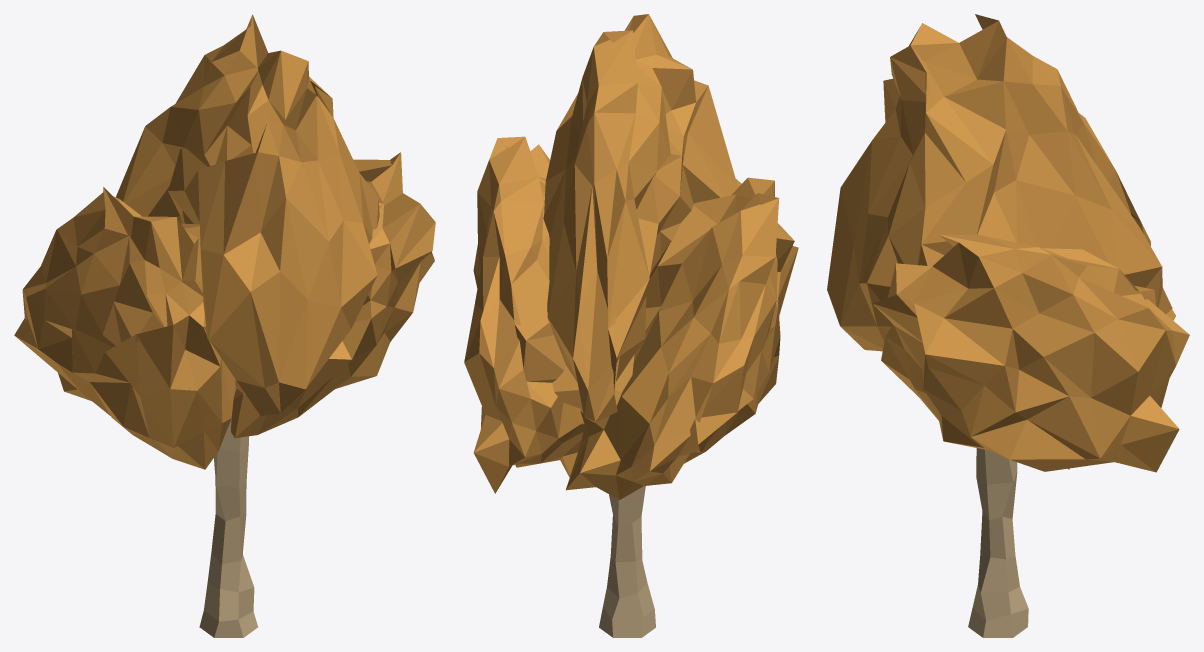
The model's file is Tree_09.fbx.
3 renders of one model, left to right at view 1: azimuth 30°, elevation 25°; view 2: azimuth 150°, elevation 25°; view 3: azimuth 270°, elevation 25°, orthographic. The views are drawn at different scales.
Visible parts, largest first — view 1: Tree_9; view 2: Tree_9; view 3: Tree_9.
Part boxes in pixels (bbox=[...]): Tree_9: bbox=[14, 14, 435, 637]; Tree_9: bbox=[464, 14, 798, 637]; Tree_9: bbox=[827, 14, 1189, 637].
Size of the model in its own units: 2018 by 3526 by 1876.
